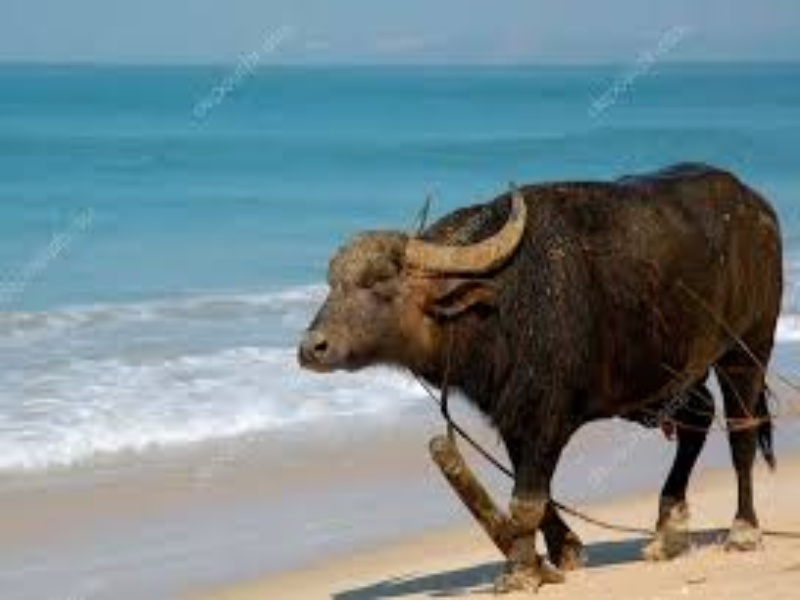buffalo: (293, 172, 793, 572)
